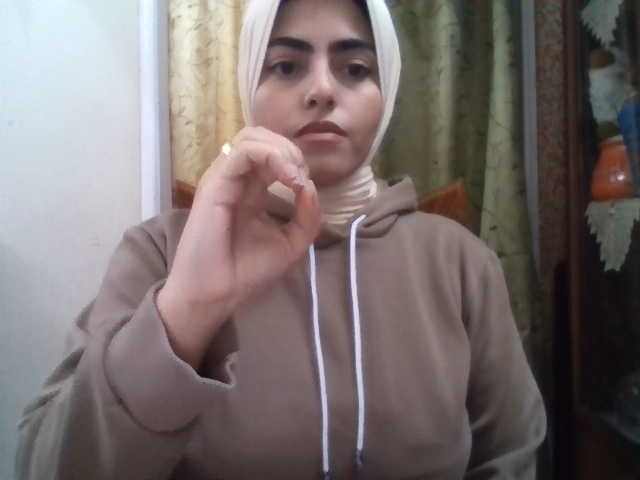O: (169, 124, 321, 312)
